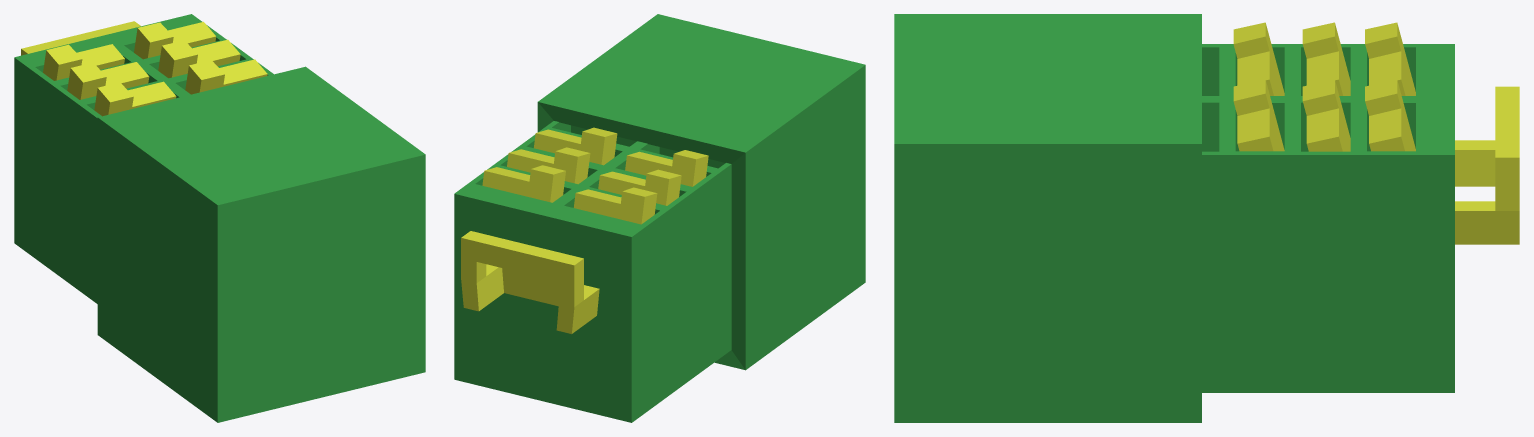
The model's file is archivero.fbx.
The picture shows the model from 3 angles, left to right: view 1: azimuth 30°, elevation 25°; view 2: azimuth 150°, elevation 25°; view 3: azimuth 270°, elevation 25°; orthographic projection. The views are drawn at different scales.
Parts seen in each view (by area): view 1: Cube; view 2: Cube; view 3: Cube.
Part boxes in pixels (<box>): Cube: <box>14,14,425,422</box>; Cube: <box>454,14,865,422</box>; Cube: <box>894,14,1519,422</box>.
Bounding box in the file's own units: 211 × 216 × 429.
